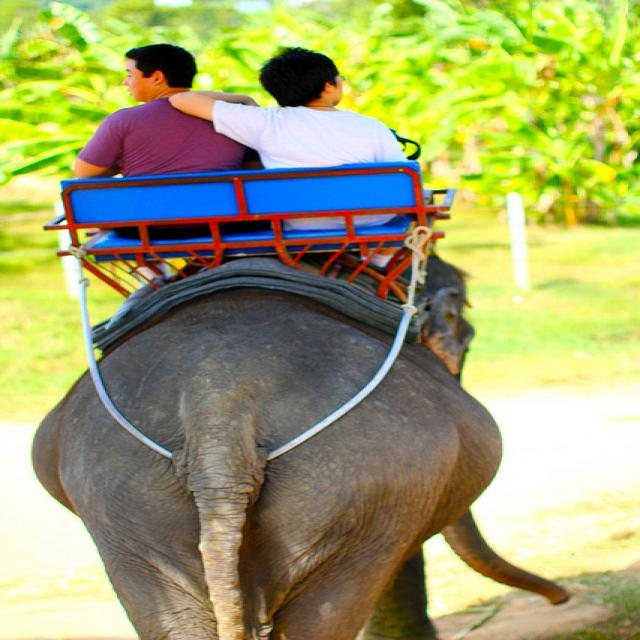Elephant: (30, 251, 573, 639)
person: (167, 45, 416, 275), (72, 43, 259, 283)
